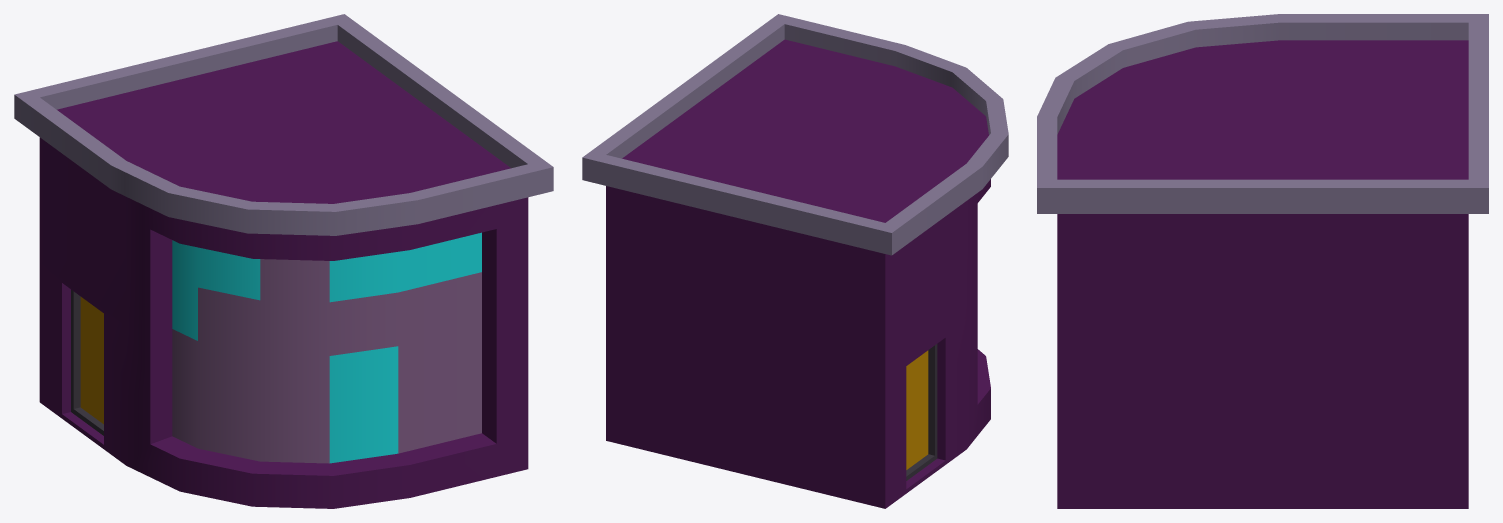
Rendered from House3.fbx.
3 renders of one model, left to right at view 1: azimuth 30°, elevation 25°; view 2: azimuth 150°, elevation 25°; view 3: azimuth 270°, elevation 25°, orthographic. The views are drawn at different scales.
Visible parts, largest first — view 1: House_R_3; view 2: House_R_3; view 3: House_R_3.
Part boxes in pixels (box(x1,y1,x2,y2)): House_R_3: box(14, 14, 553, 508); House_R_3: box(582, 14, 1008, 508); House_R_3: box(1037, 14, 1488, 508).
Bounding box in the file's own units: 779 × 687 × 854.
